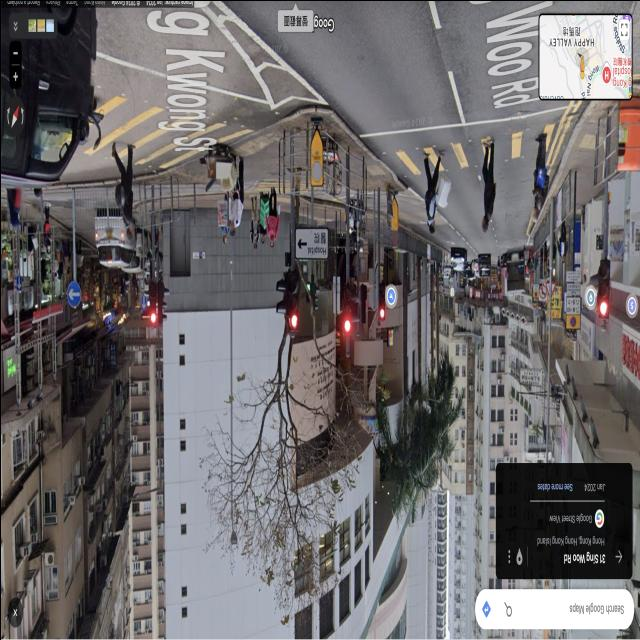Direction-Sign: (295, 228, 327, 260), (15, 276, 21, 290), (141, 295, 146, 309)
Order-Sign: (566, 296, 580, 328), (66, 280, 80, 307), (538, 284, 546, 298)
